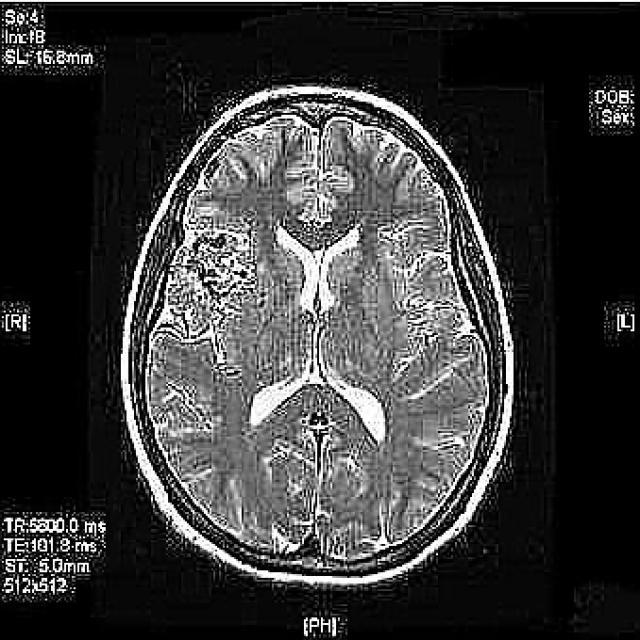notumor: (121, 87, 517, 587)
